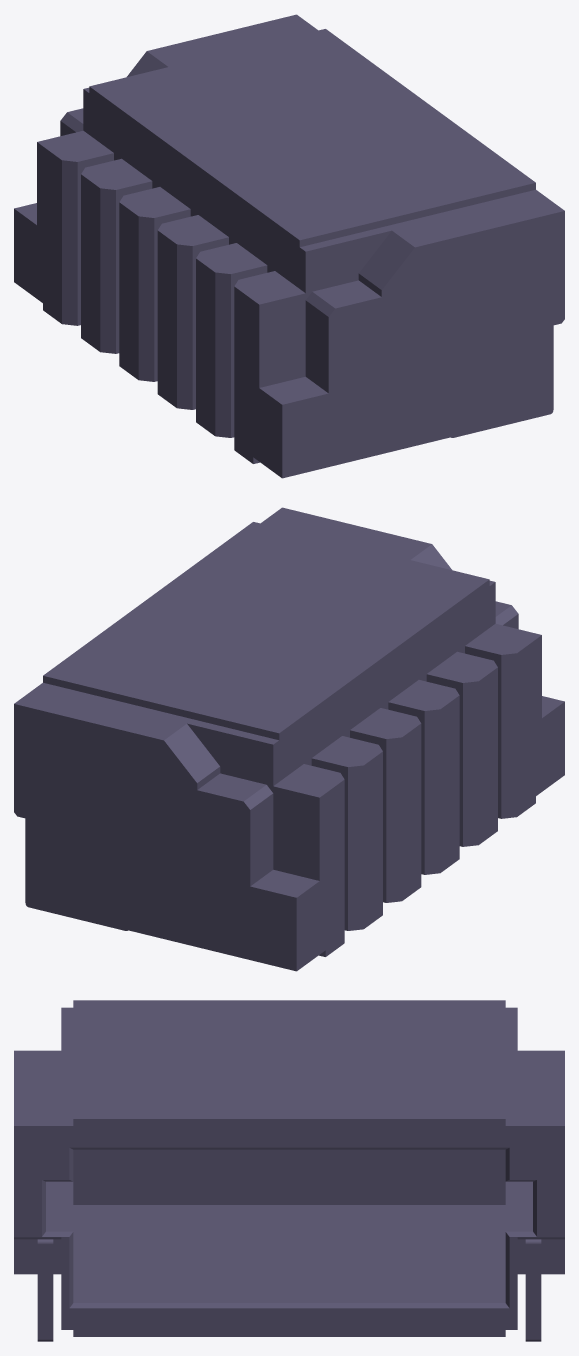
File: Main_SH05W_KORP.dae
3 renders of one model, top to bottom at view 1: azimuth 30°, elevation 25°; view 2: azimuth 150°, elevation 25°; view 3: azimuth 270°, elevation 25°, orthographic. The views are drawn at different scales.
Visible parts, largest first — view 1: Main_SH05W_KORP; view 2: Main_SH05W_KORP; view 3: Main_SH05W_KORP.
Part boxes in pixels (x1=…): Main_SH05W_KORP: x1=14, y1=14, x2=564, y2=478; Main_SH05W_KORP: x1=14, y1=507, x2=564, y2=971; Main_SH05W_KORP: x1=14, y1=1000, x2=564, y2=1341.
Bounding box in the file's own units: 0.00426 × 0.007 × 0.00314.
